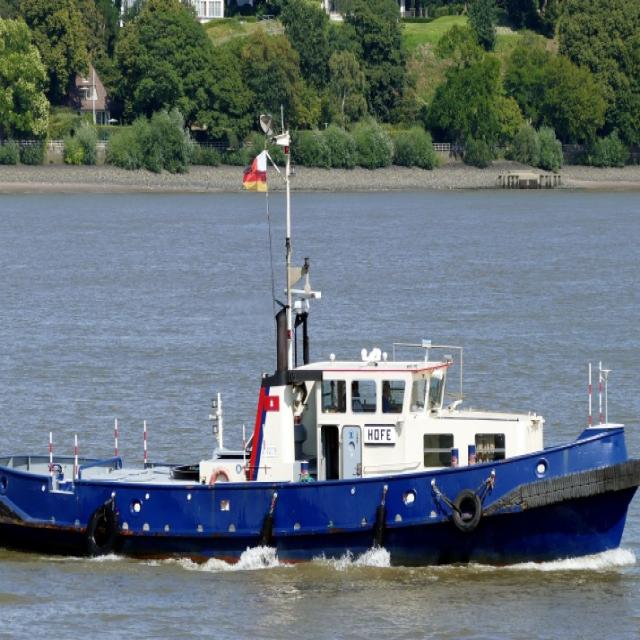tugboat: (1, 102, 640, 586)
